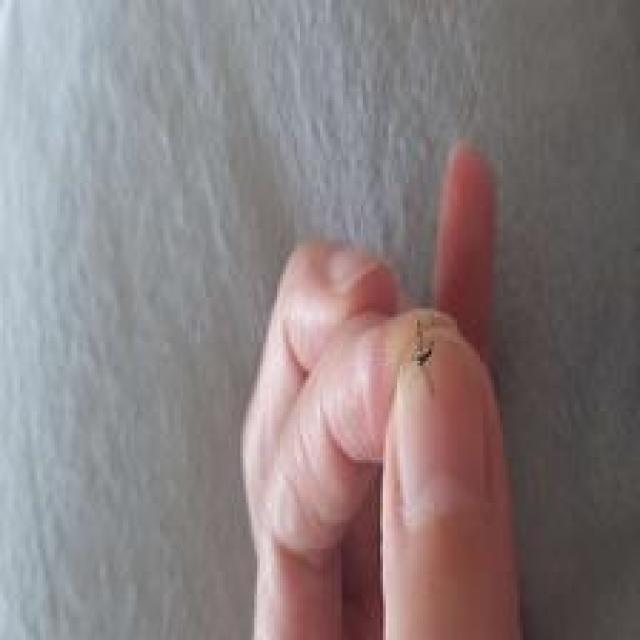Aedes albopictus: (409, 319, 434, 367)
